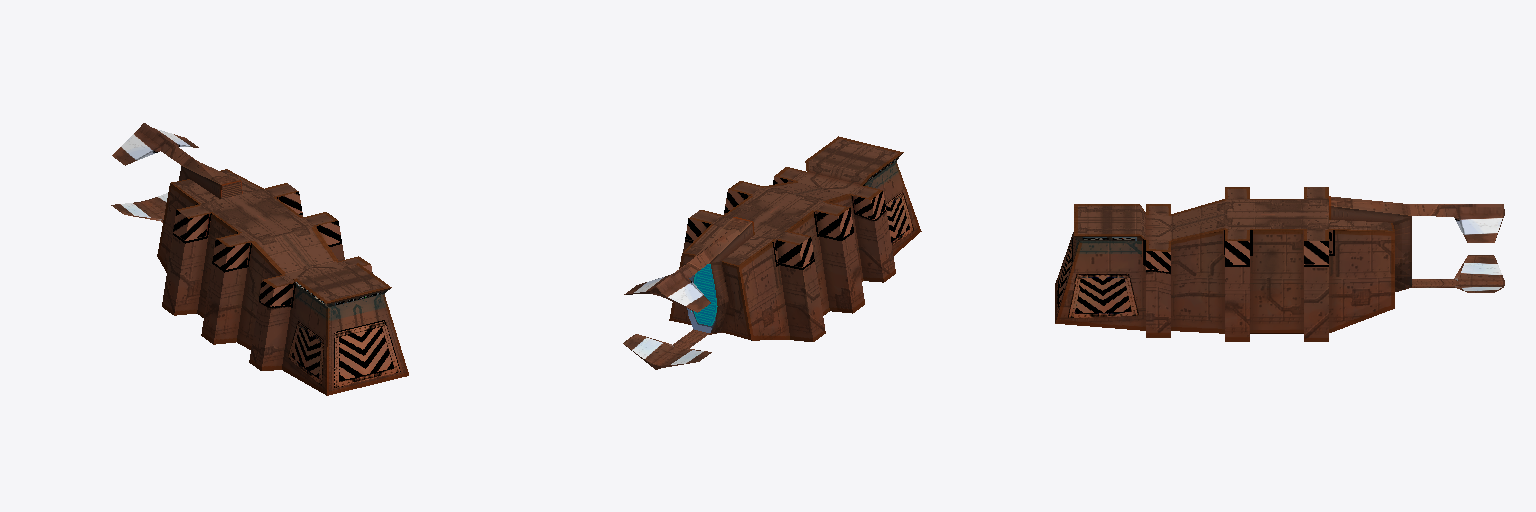
3 renders of one model, left to right at view 1: azimuth 30°, elevation 25°; view 2: azimuth 150°, elevation 25°; view 3: azimuth 270°, elevation 25°, orthographic.
Bounding box in the file's own units: 7.18 × 5.39 × 19.97.
1 materials, 1 textured.